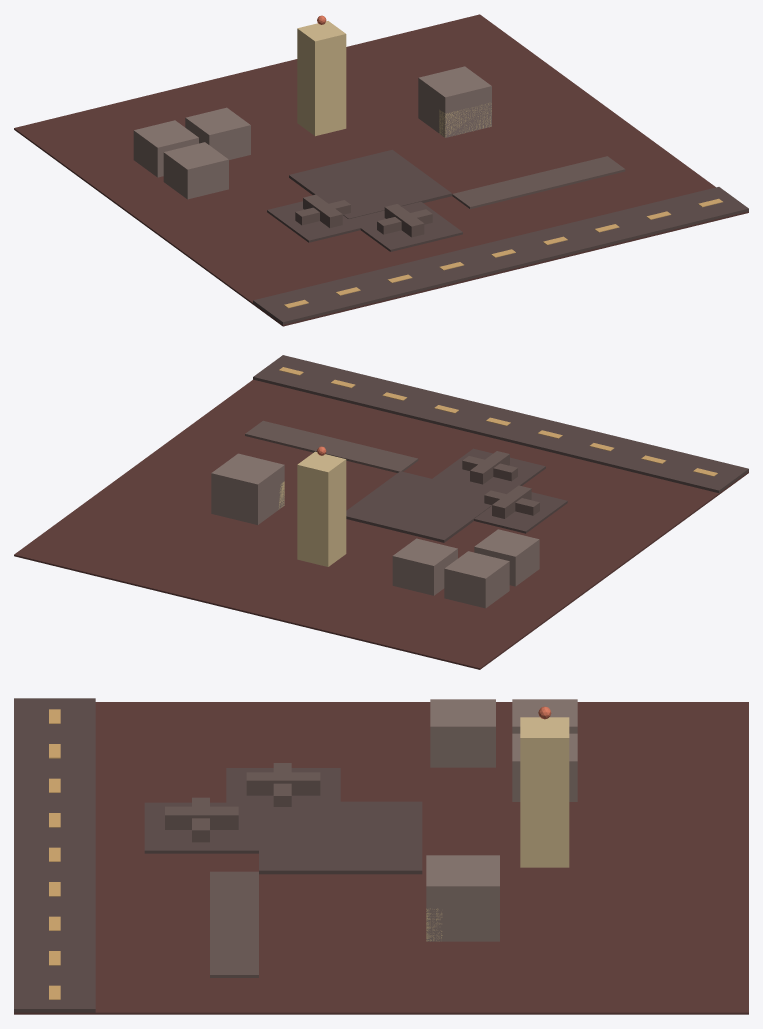
Rendered from stage_09.glb.
3 renders of one model, top to bottom at view 1: azimuth 30°, elevation 25°; view 2: azimuth 150°, elevation 25°; view 3: azimuth 270°, elevation 25°, orthographic. The views are drawn at different scales.
Parts seen in each view (by area): view 1: geometry_0; view 2: geometry_0; view 3: geometry_0.
Part boxes in pixels (<box>): geometry_0: <box>14,14,748,326</box>; geometry_0: <box>14,355,748,669</box>; geometry_0: <box>14,698,748,1014</box>.
Bounding box in the file's own units: 9 × 2.06 × 9.
